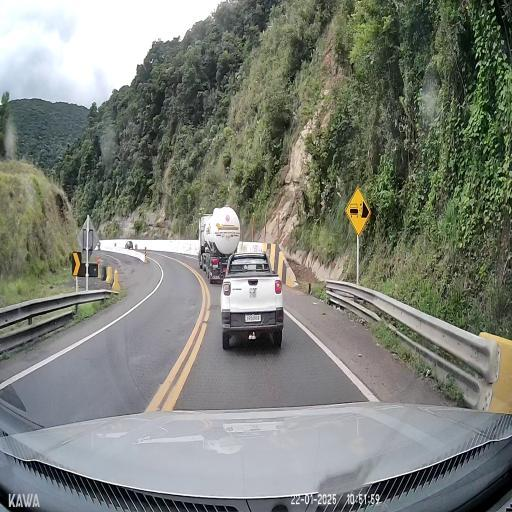A-27: (344, 186, 372, 236)
